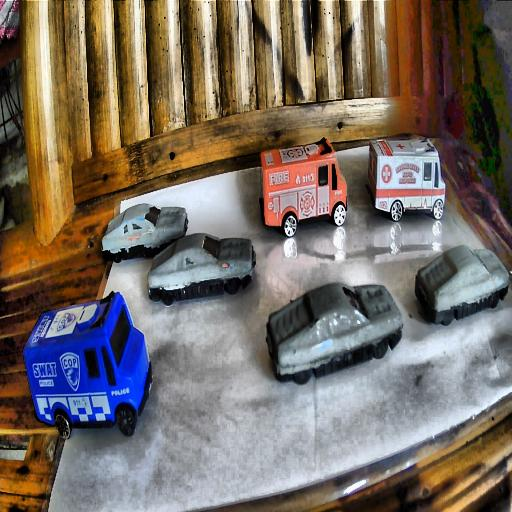ambulance: (365, 134, 445, 223)
fire_truck: (255, 137, 340, 237)
normal_car: (266, 282, 402, 385), (147, 232, 253, 304), (416, 245, 508, 325), (100, 201, 189, 265)
police car: (24, 288, 153, 440)
